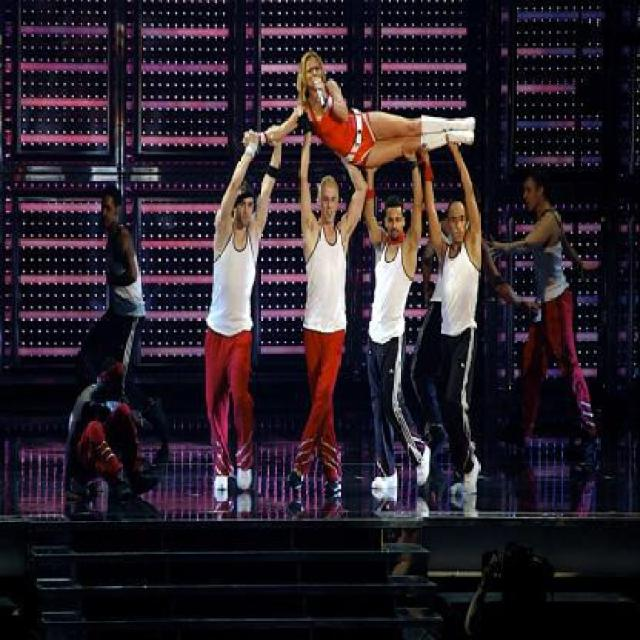Person: (280, 102, 369, 506), (490, 167, 602, 484), (420, 177, 540, 468), (200, 125, 286, 498), (75, 184, 173, 462), (410, 136, 485, 498), (240, 46, 482, 152), (365, 162, 433, 495), (62, 354, 162, 520)
